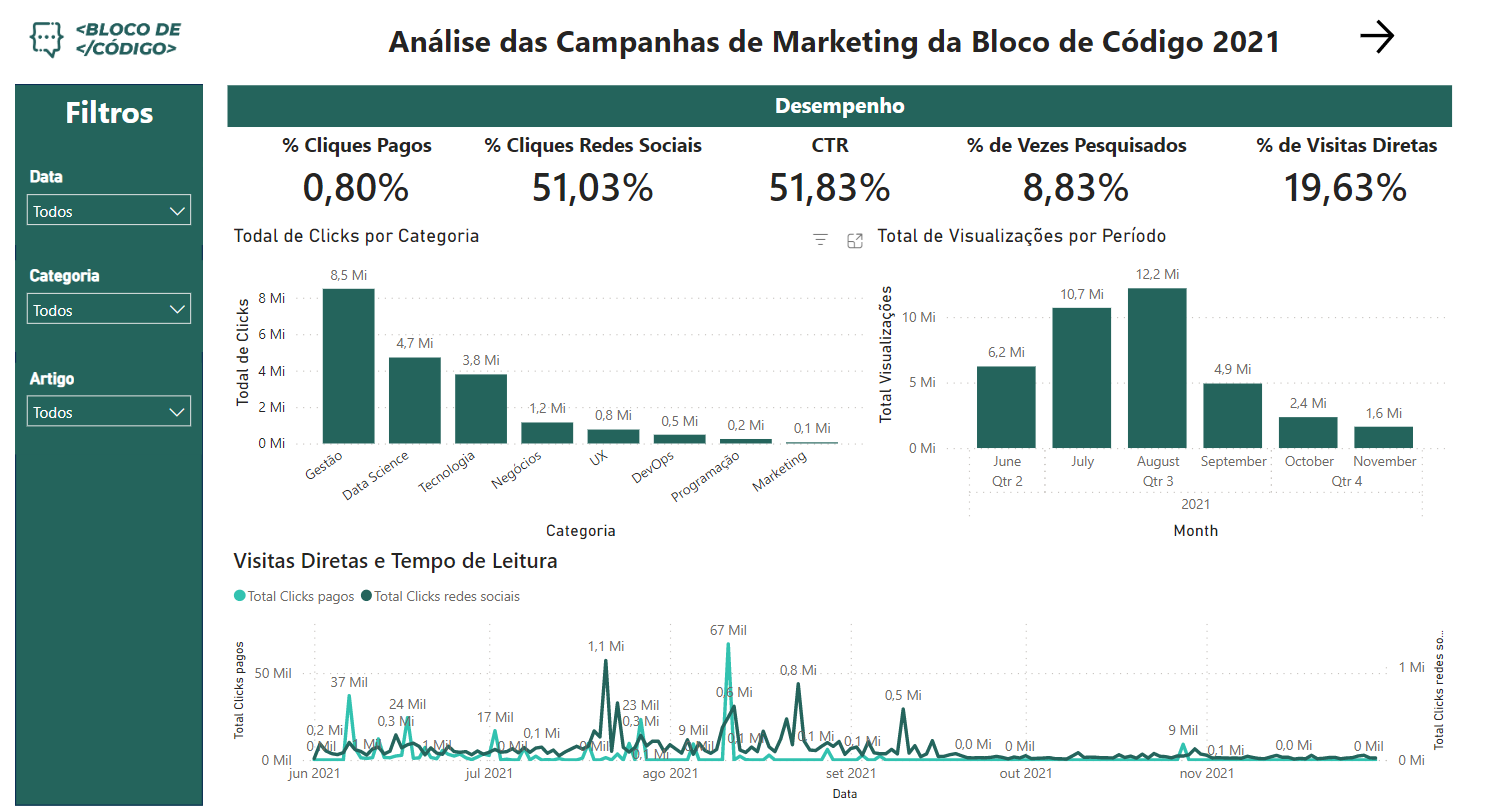

This screenshot's page, from the dashboard's own definition file:
{"tool":"powerbi","page":{"name":"Desempenho","canvas":[1280,720],"ordinal":0},"visuals":[{"type":"card","title":"% Cliques Pagos","fields":{"Values":["Valores.% de clicks pagos"]},"box":[187.1,125.5,227.7,77.5],"z":0},{"type":"card","title":"% Cliques Redes Sociais","fields":{"Values":["Valores.% de clicks redes sociais"]},"box":[406.2,125.5,205.5,77.5],"z":2},{"type":"card","title":"CTR","fields":{"Values":["campanha bloco de código - Artigos.CTR"]},"box":[640,125.5,156.3,77.5],"z":3},{"type":"card","title":"% de Vezes Pesquisados","fields":{"Values":["Valores.% de vezes pesquisados"]},"box":[823.4,125.5,225.2,77.5],"z":4},{"type":"card","title":"% de Visitas Diretas","fields":{"Values":["Valores.% de visitas diretas"]},"box":[1081.8,125.5,183.4,77.5],"z":5},{"type":"image","box":[0,0,165.6,84.9],"z":6},{"type":"shape","box":[0,84.2,165.6,635.8],"z":7},{"type":"textbox","box":[165.1,21.8,1114.9,49.9],"z":8},{"type":"actionButton","box":[1179.8,22.3,100.2,40.3],"z":9},{"type":"slicer","fields":{"Values":["Artigos.Data"]},"box":[0,151.7,165.6,73.7],"z":10},{"type":"slicer","fields":{"Values":["Artigos.Categoria"]},"box":[0,239.3,165.6,80.7],"z":11},{"type":"textbox","box":[0,84.9,165.6,72.3],"z":12},{"type":"textbox","box":[187.1,84.9,1079.4,36.9],"z":13},{"type":"slicer","fields":{"Values":["Artigos.Nome do artigo"]},"box":[0,329,165.1,80.6],"z":14},{"type":"clusteredColumnChart","fields":{"Category":["Artigos.Categoria"],"Y":["Valores.Todal de Clicks"]},"box":[187.1,206.8,567.4,283.1],"z":15},{"type":"lineChart","title":"Visitas Diretas e Tempo de Leitura","fields":{"Category":["Artigos.Data"],"Y":["Valores.Total Clicks pagos"],"Y2":["Valores.Total Clicks redes sociais"]},"box":[187.1,489.8,1079.4,230.2],"z":16},{"type":"clusteredColumnChart","title":"Total de Visualizações por Período","fields":{"Y":["Valores.Total Visualizações"],"Category":["Artigos.Data.Variation.Date Hierarchy.Year","Artigos.Data.Variation.Date Hierarchy.Quarter","Artigos.Data.Variation.Date Hierarchy.Month"]},"box":[754.5,206.8,510.8,283.1],"z":17}]}

Visuals, with their boxes on the page's 1280x720 design canvas (x1, y1, x2, y2). These are canvas units, not pixel positions in the 1495x806 screenshot, which may show the page scaled, cropped or inside an application window:
"% Cliques Pagos" card: [x1=187, y1=126, x2=415, y2=203]
"% Cliques Redes Sociais" card: [x1=406, y1=126, x2=612, y2=203]
"CTR" card: [x1=640, y1=126, x2=796, y2=203]
"% de Vezes Pesquisados" card: [x1=823, y1=126, x2=1049, y2=203]
"% de Visitas Diretas" card: [x1=1082, y1=126, x2=1265, y2=203]
image: [x1=0, y1=0, x2=166, y2=85]
shape: [x1=0, y1=84, x2=166, y2=720]
textbox: [x1=165, y1=22, x2=1280, y2=72]
actionButton: [x1=1180, y1=22, x2=1280, y2=63]
slicer - Artigos.Data: [x1=0, y1=152, x2=166, y2=225]
slicer - Artigos.Categoria: [x1=0, y1=239, x2=166, y2=320]
textbox: [x1=0, y1=85, x2=166, y2=157]
textbox: [x1=187, y1=85, x2=1266, y2=122]
slicer - Artigos.Nome do artigo: [x1=0, y1=329, x2=165, y2=410]
clusteredColumnChart - Artigos.Categoria x Valores.Todal de Clicks: [x1=187, y1=207, x2=754, y2=490]
"Visitas Diretas e Tempo de Leitura" lineChart: [x1=187, y1=490, x2=1266, y2=720]
"Total de Visualizações por Período" clusteredColumnChart: [x1=754, y1=207, x2=1265, y2=490]
